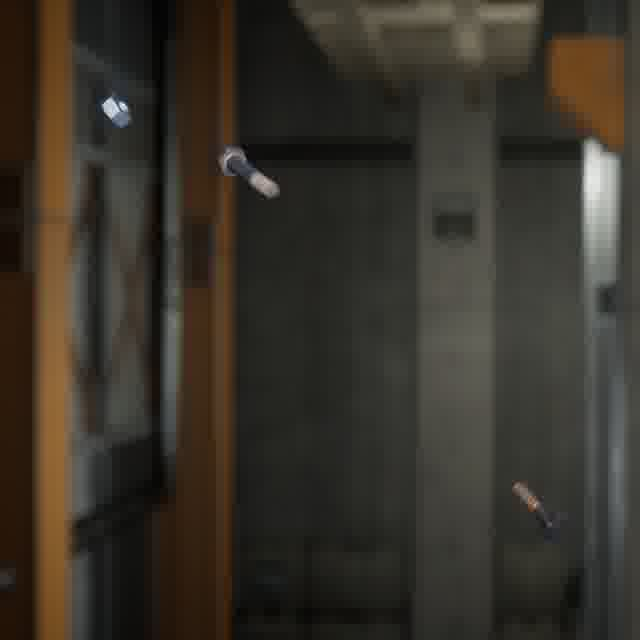bolt: (509, 477, 574, 546), (211, 142, 284, 203)
nut: (97, 89, 138, 132)
